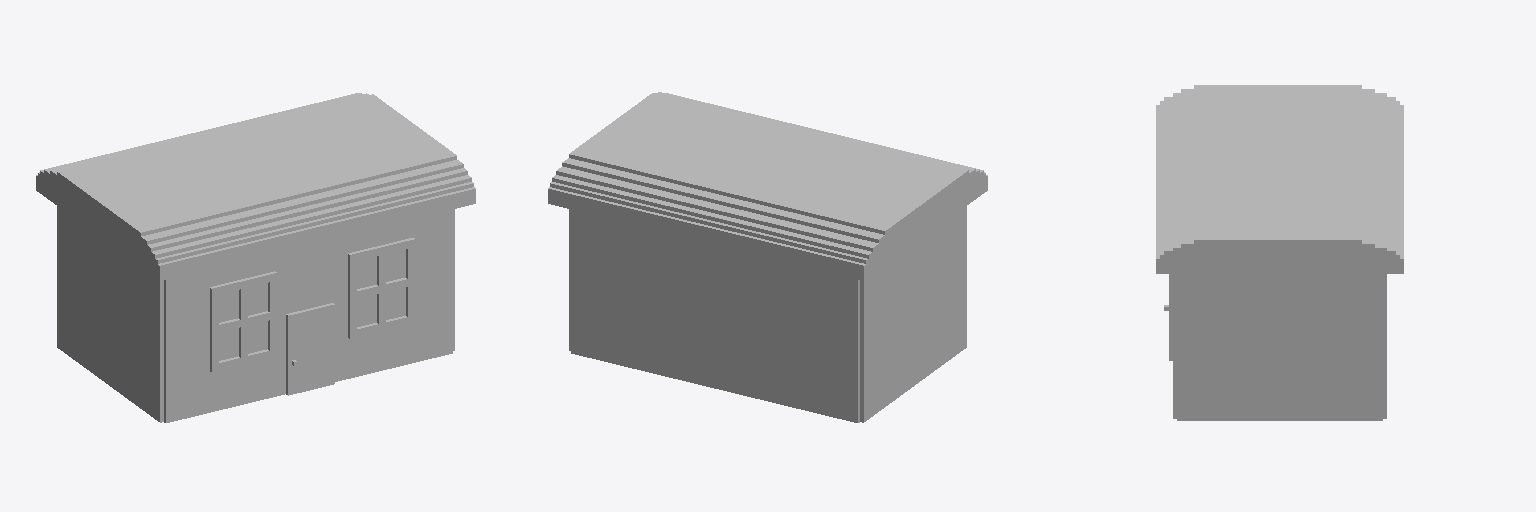
Rendered from Casa.obj.
3 views of the same model, side by side, from view 1: azimuth 30°, elevation 25°; view 2: azimuth 150°, elevation 25°; view 3: azimuth 270°, elevation 25° (orthographic).
Parts seen in each view (by area): view 1: object 1; view 2: object 1; view 3: object 1.
Boxes of the visible parts, x1=… form: object 1: x1=36, y1=93, x2=475, y2=422; object 1: x1=548, y1=92, x2=987, y2=422; object 1: x1=1156, y1=85, x2=1403, y2=420.
Size of the model in its own units: 8.7 by 4.9 by 5.9.